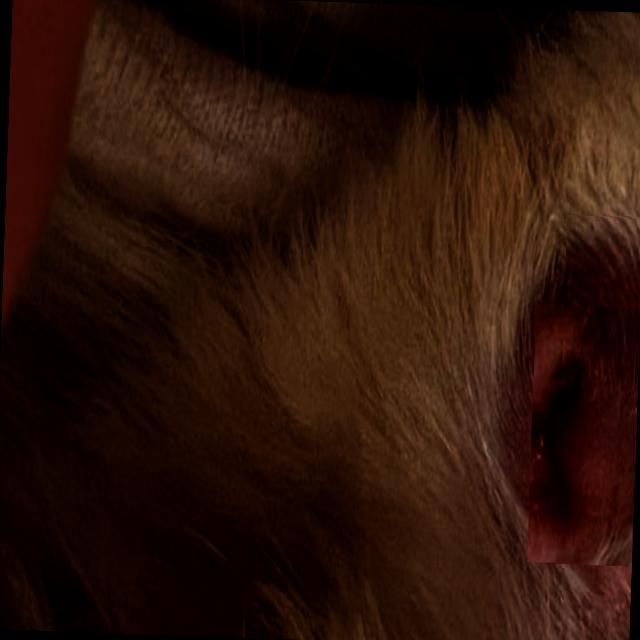fem: (553, 214, 637, 592), (527, 306, 630, 561)
